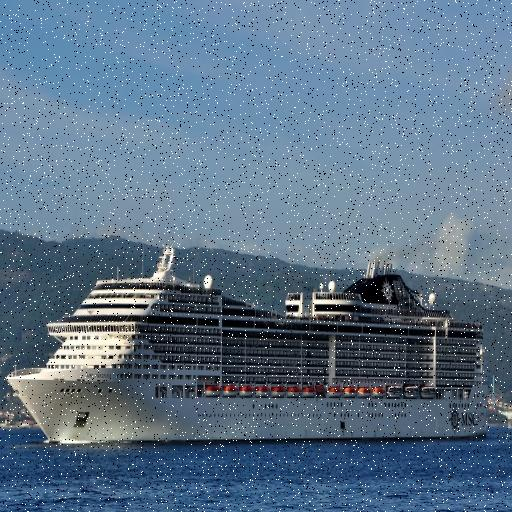cruises: (6, 244, 494, 450)
